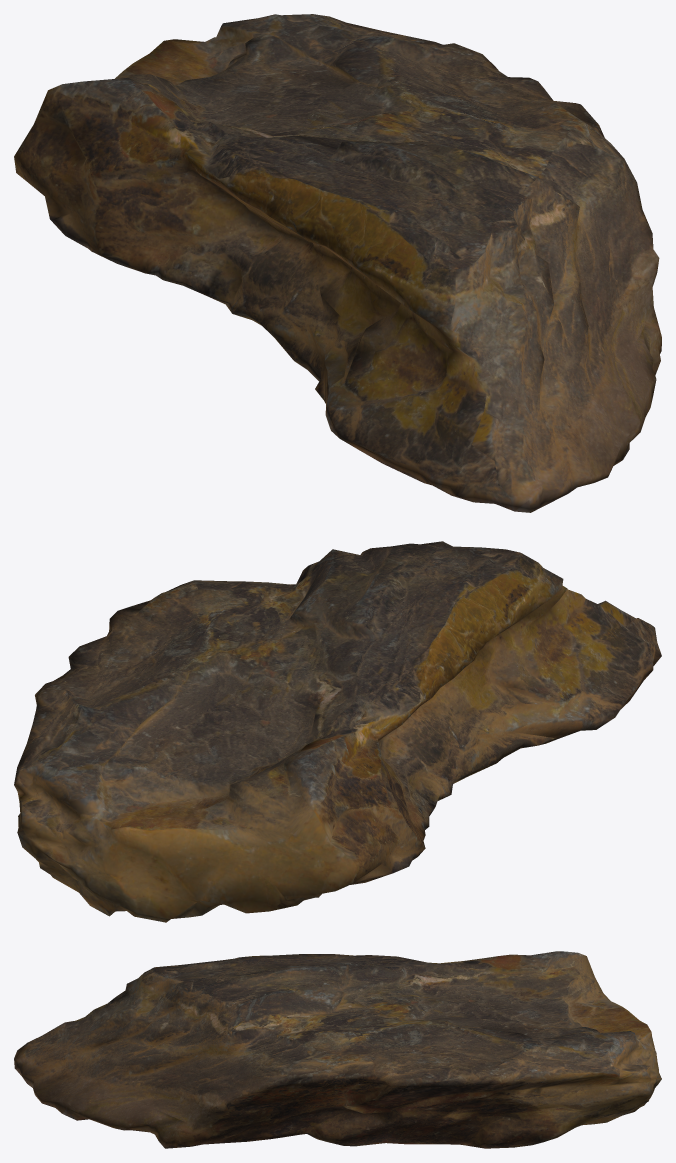
The model's file is Scan_FlatStone.fbx.
3 renders of one model, top to bottom at view 1: azimuth 30°, elevation 25°; view 2: azimuth 150°, elevation 25°; view 3: azimuth 270°, elevation 25°, orthographic. The views are drawn at different scales.
Visible parts, largest first — view 1: Scan_FlatStone_LOD0; view 2: Scan_FlatStone_LOD0; view 3: Scan_FlatStone_LOD0.
Part boxes in pixels (bbox=[...]): Scan_FlatStone_LOD0: bbox=[14, 14, 661, 512]; Scan_FlatStone_LOD0: bbox=[14, 541, 661, 922]; Scan_FlatStone_LOD0: bbox=[14, 951, 661, 1148].
Size of what is drawn, in the model's own units: 0.0739 by 0.0328 by 0.1448.
